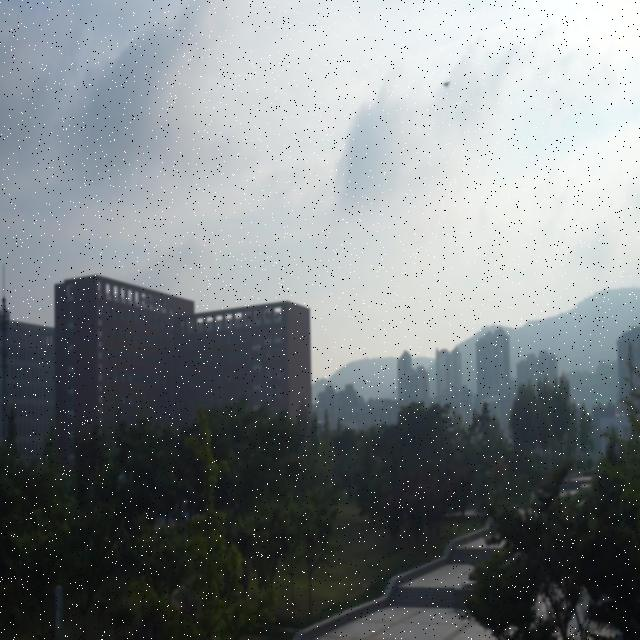UAV: (442, 80, 451, 89)
